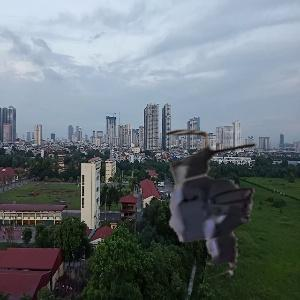drone: (119, 123, 286, 290)
